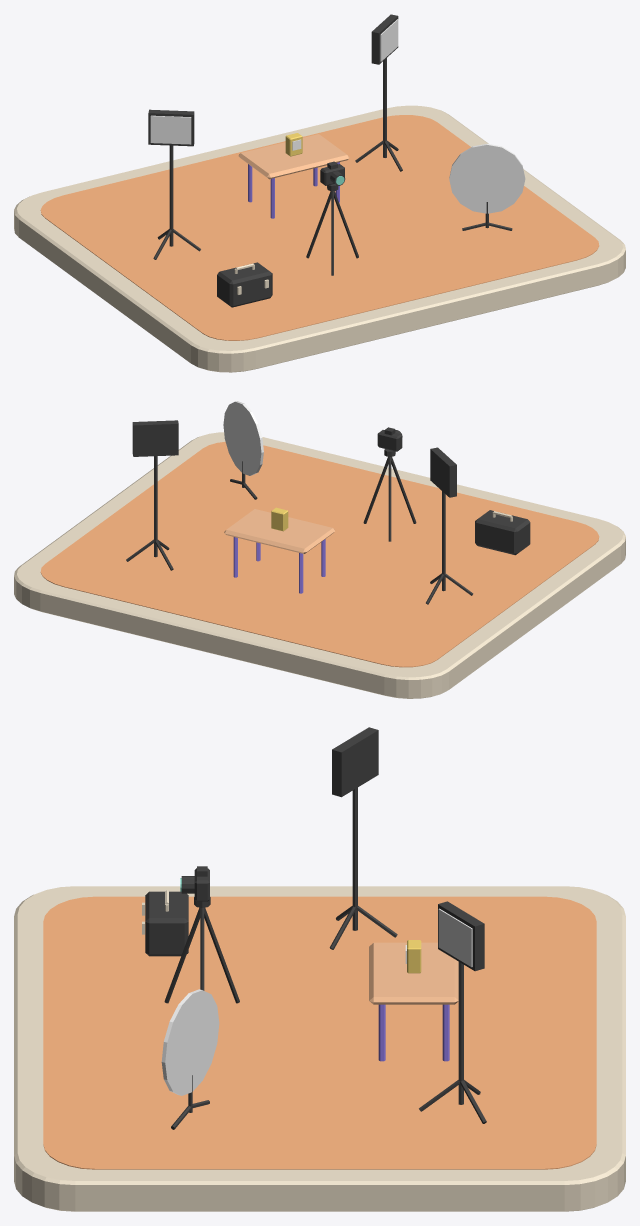
3 renders of one model, top to bottom at view 1: azimuth 30°, elevation 25°; view 2: azimuth 150°, elevation 25°; view 3: azimuth 270°, elevation 25°, orthographic. The views are drawn at different scales.
Visible parts, largest first — view 1: COM-02 Floor Surface, COM-01 Rounded Base Direct, Reflector, Rounded table top, Case, Diffuser, Light panel, Light panel.001, Diffuser.001; view 2: COM-02 Floor Surface, COM-01 Rounded Base Direct, Rounded table top, Reflector, Case, Light panel.001, Light panel, Body; view 3: COM-02 Floor Surface, COM-01 Rounded Base Direct, Rounded table top, Reflector, Case, Light panel, Diffuser.001, Light panel.001, Pole.001, Pole.
Part boxes in pixels (x1=…): COM-02 Floor Surface: x1=40, y1=115, x2=599, y2=340; COM-01 Rounded Base Direct: x1=14, y1=105, x2=625, y2=372; Reflector: x1=449, y1=143, x2=525, y2=213; Rounded table top: x1=238, y1=134, x2=349, y2=179; Case: x1=217, y1=262, x2=272, y2=307; Diffuser: x1=150, y1=115, x2=191, y2=144; Light panel: x1=148, y1=109, x2=194, y2=146; Light panel.001: x1=371, y1=14, x2=398, y2=64; Diffuser.001: x1=380, y1=19, x2=398, y2=61; COM-02 Floor Surface: x1=40, y1=441, x2=599, y2=667; COM-01 Rounded Base Direct: x1=14, y1=432, x2=625, y2=698; Rounded table top: x1=224, y1=509, x2=334, y2=553; Reflector: x1=223, y1=401, x2=263, y2=475; Case: x1=475, y1=510, x2=530, y2=555; Light panel.001: x1=132, y1=420, x2=178, y2=456; Light panel: x1=430, y1=447, x2=456, y2=497; Body: x1=377, y1=430, x2=402, y2=451; COM-02 Floor Surface: x1=43, y1=896, x2=596, y2=1169; COM-01 Rounded Base Direct: x1=14, y1=886, x2=625, y2=1211; Rounded table top: x1=369, y1=942, x2=458, y2=1004; Reflector: x1=161, y1=989, x2=219, y2=1095; Case: x1=145, y1=891, x2=188, y2=956; Light panel: x1=332, y1=727, x2=378, y2=797; Diffuser.001: x1=438, y1=908, x2=472, y2=967; Light panel.001: x1=438, y1=901, x2=484, y2=971; Pole.001: x1=458, y1=962, x2=463, y2=1104; Pole: x1=352, y1=787, x2=357, y2=930.
Bounding box in the file's own units: 6 × 2.16 × 5.2.
Materials: 1 (1 with a texture image).
